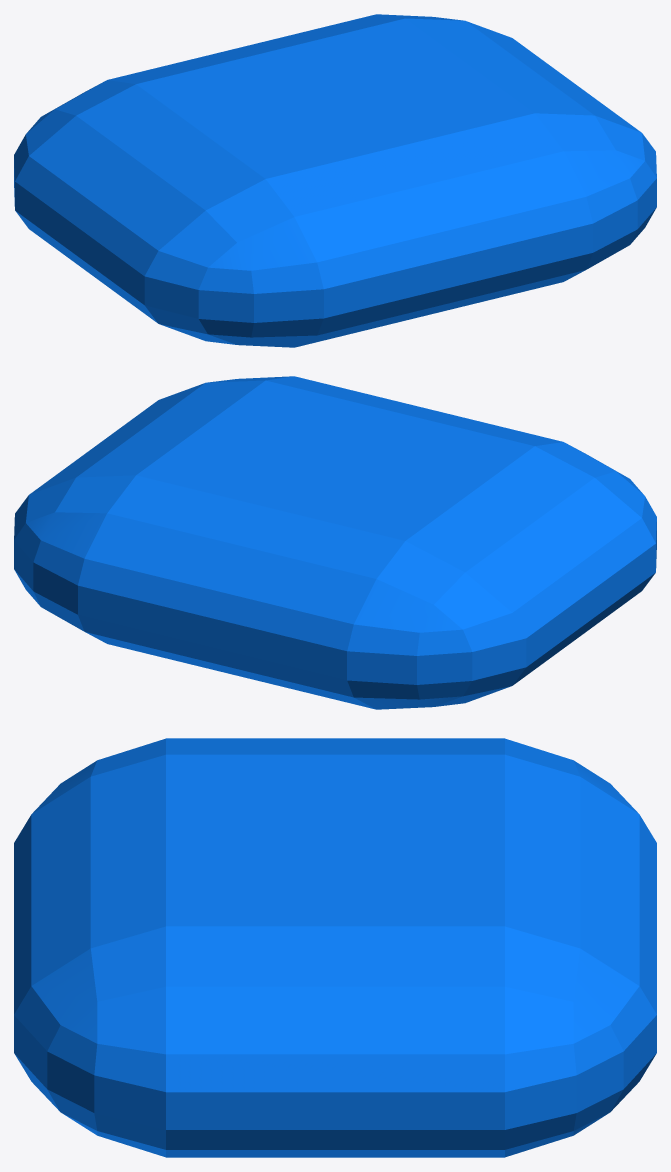
The model's file is Gem 1.fbx.
The picture shows the model from 3 angles, top to bottom: view 1: azimuth 30°, elevation 25°; view 2: azimuth 150°, elevation 25°; view 3: azimuth 270°, elevation 25°; orthographic projection. The views are drawn at different scales.
Visible parts, largest first — view 1: Gem 1; view 2: Gem 1; view 3: Gem 1.
Part boxes in pixels (x1=…): Gem 1: x1=14, y1=14, x2=656, y2=347; Gem 1: x1=14, y1=376, x2=656, y2=709; Gem 1: x1=14, y1=738, x2=656, y2=1157.
Bounding box in the file's own units: 17.09 × 5.25 × 14.23.
